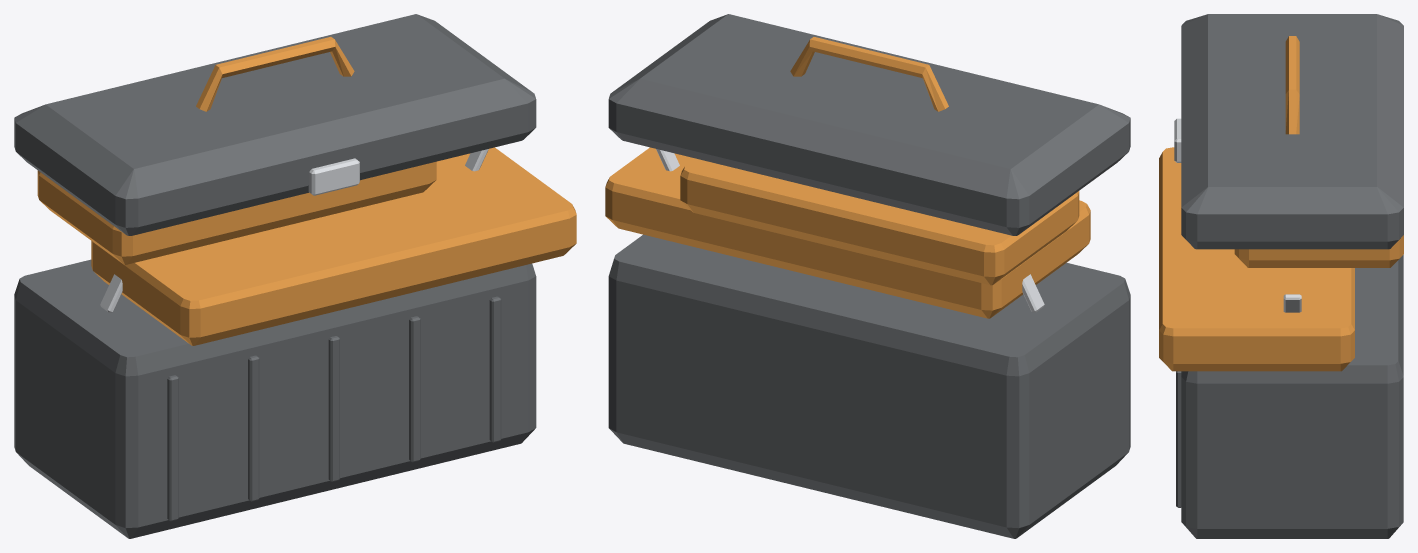
The model's file is hardware-store-and-diy-warehouse-tool-box-00f4820f.glb.
3 renders of one model, left to right at view 1: azimuth 30°, elevation 25°; view 2: azimuth 150°, elevation 25°; view 3: azimuth 270°, elevation 25°, orthographic. The views are drawn at different scales.
Visible parts, largest first — view 1: tool-box, tool-box-lid/dark, tool-box-lid/accent, tool-box-lid/metal; view 2: tool-box, tool-box-lid/dark, tool-box-lid/accent; view 3: tool-box, tool-box-lid/dark, tool-box-lid/accent, tool-box-lid/metal.
Boxes of the visible parts, x1,y1,x2,y2 form: tool-box: (14, 147, 576, 538); tool-box-lid/dark: (14, 14, 536, 235); tool-box-lid/accent: (196, 36, 354, 111); tool-box-lid/metal: (308, 158, 359, 195); tool-box: (605, 147, 1130, 538); tool-box-lid/dark: (608, 14, 1130, 235); tool-box-lid/accent: (790, 37, 948, 111); tool-box: (1159, 147, 1403, 538); tool-box-lid/dark: (1181, 14, 1403, 249); tool-box-lid/accent: (1285, 36, 1299, 134); tool-box-lid/metal: (1174, 118, 1181, 162).
Bounding box in the file's own units: 0.555 × 0.4767 × 0.275.
